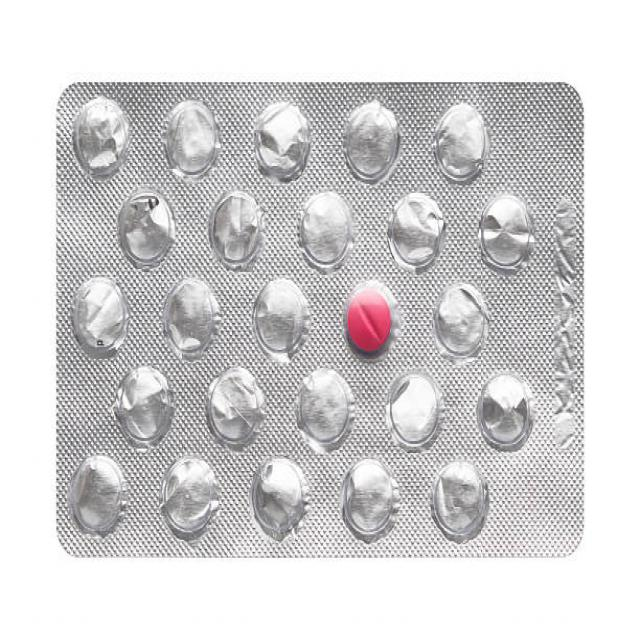Empty: (68, 440, 135, 552), (425, 91, 499, 189), (148, 94, 228, 181), (247, 274, 317, 364), (245, 454, 312, 547), (339, 93, 408, 182), (111, 185, 184, 269), (478, 366, 539, 465), (425, 457, 492, 546), (337, 458, 405, 544), (160, 280, 230, 363), (68, 94, 134, 179), (249, 96, 315, 181), (479, 186, 539, 279), (385, 187, 450, 272), (207, 185, 272, 270), (158, 453, 220, 542), (68, 269, 128, 360), (204, 362, 266, 450), (111, 364, 175, 449), (297, 185, 358, 272), (296, 370, 356, 455), (431, 283, 492, 364), (386, 371, 445, 453)
Pill: (343, 278, 401, 364)
